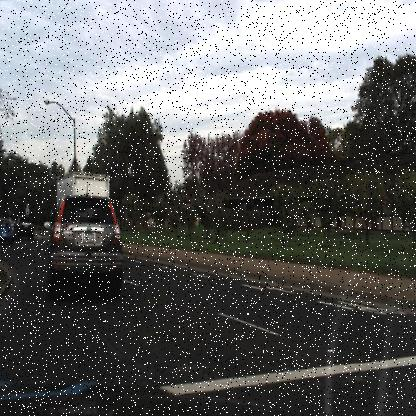car: (45, 193, 125, 301), (14, 207, 35, 241), (0, 214, 14, 246), (0, 218, 11, 243)
truck: (53, 166, 114, 221)
